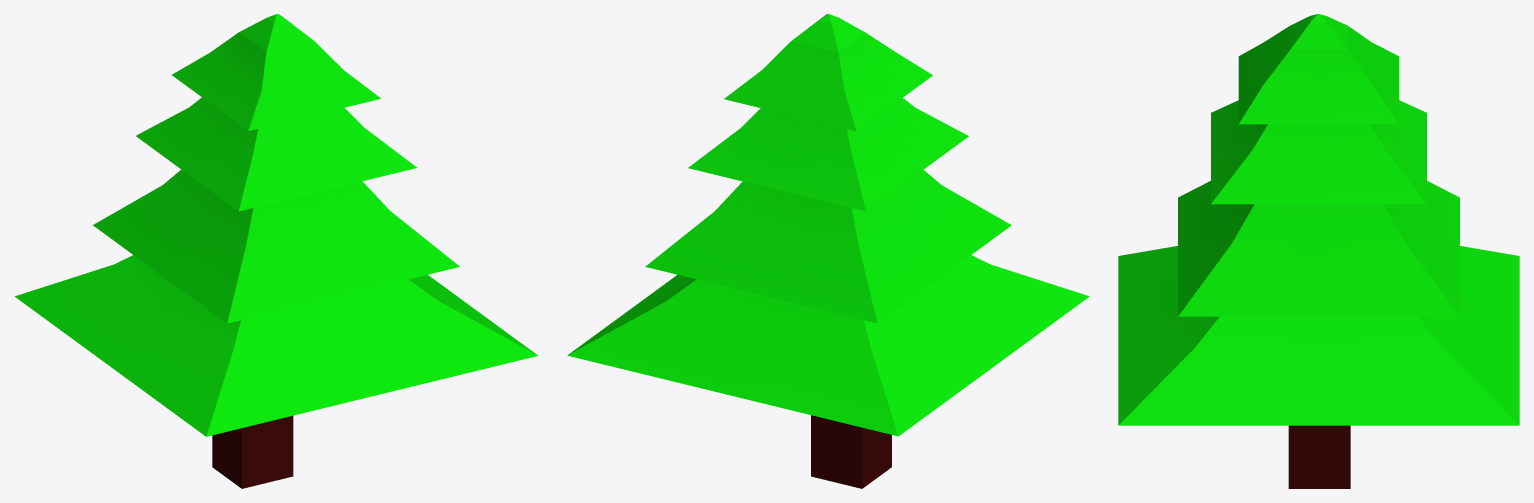
The model's file is Tree3.fbx.
3 renders of one model, left to right at view 1: azimuth 30°, elevation 25°; view 2: azimuth 150°, elevation 25°; view 3: azimuth 270°, elevation 25°, orthographic. The views are drawn at different scales.
Visible parts, largest first — view 1: polySurface2; view 2: polySurface2; view 3: polySurface2.
Part boxes in pixels (box(x1,y1,x2,y2)): polySurface2: box(14, 14, 537, 488); polySurface2: box(567, 14, 1089, 488); polySurface2: box(1118, 14, 1519, 488).
Bounding box in the file's own units: 4.21 × 5.47 × 4.21.
